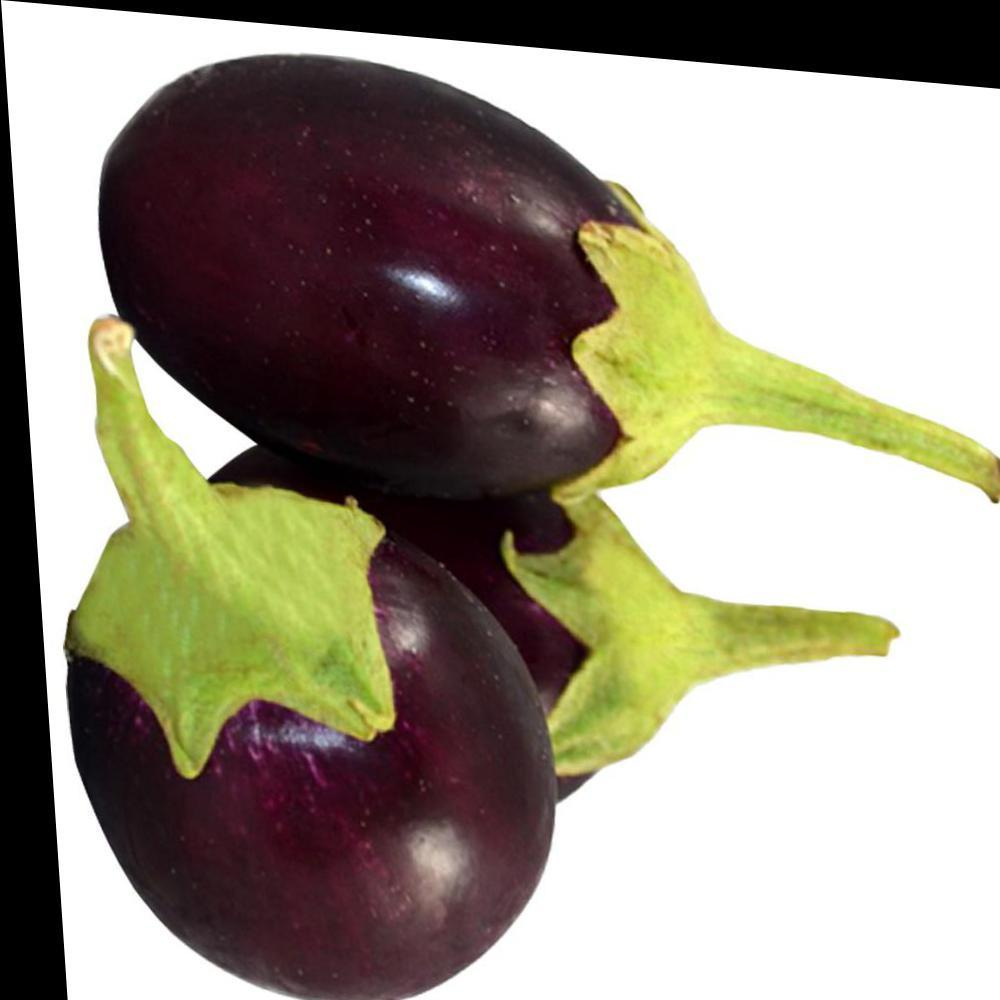eggplant: (94, 25, 916, 784), (42, 372, 576, 999)
